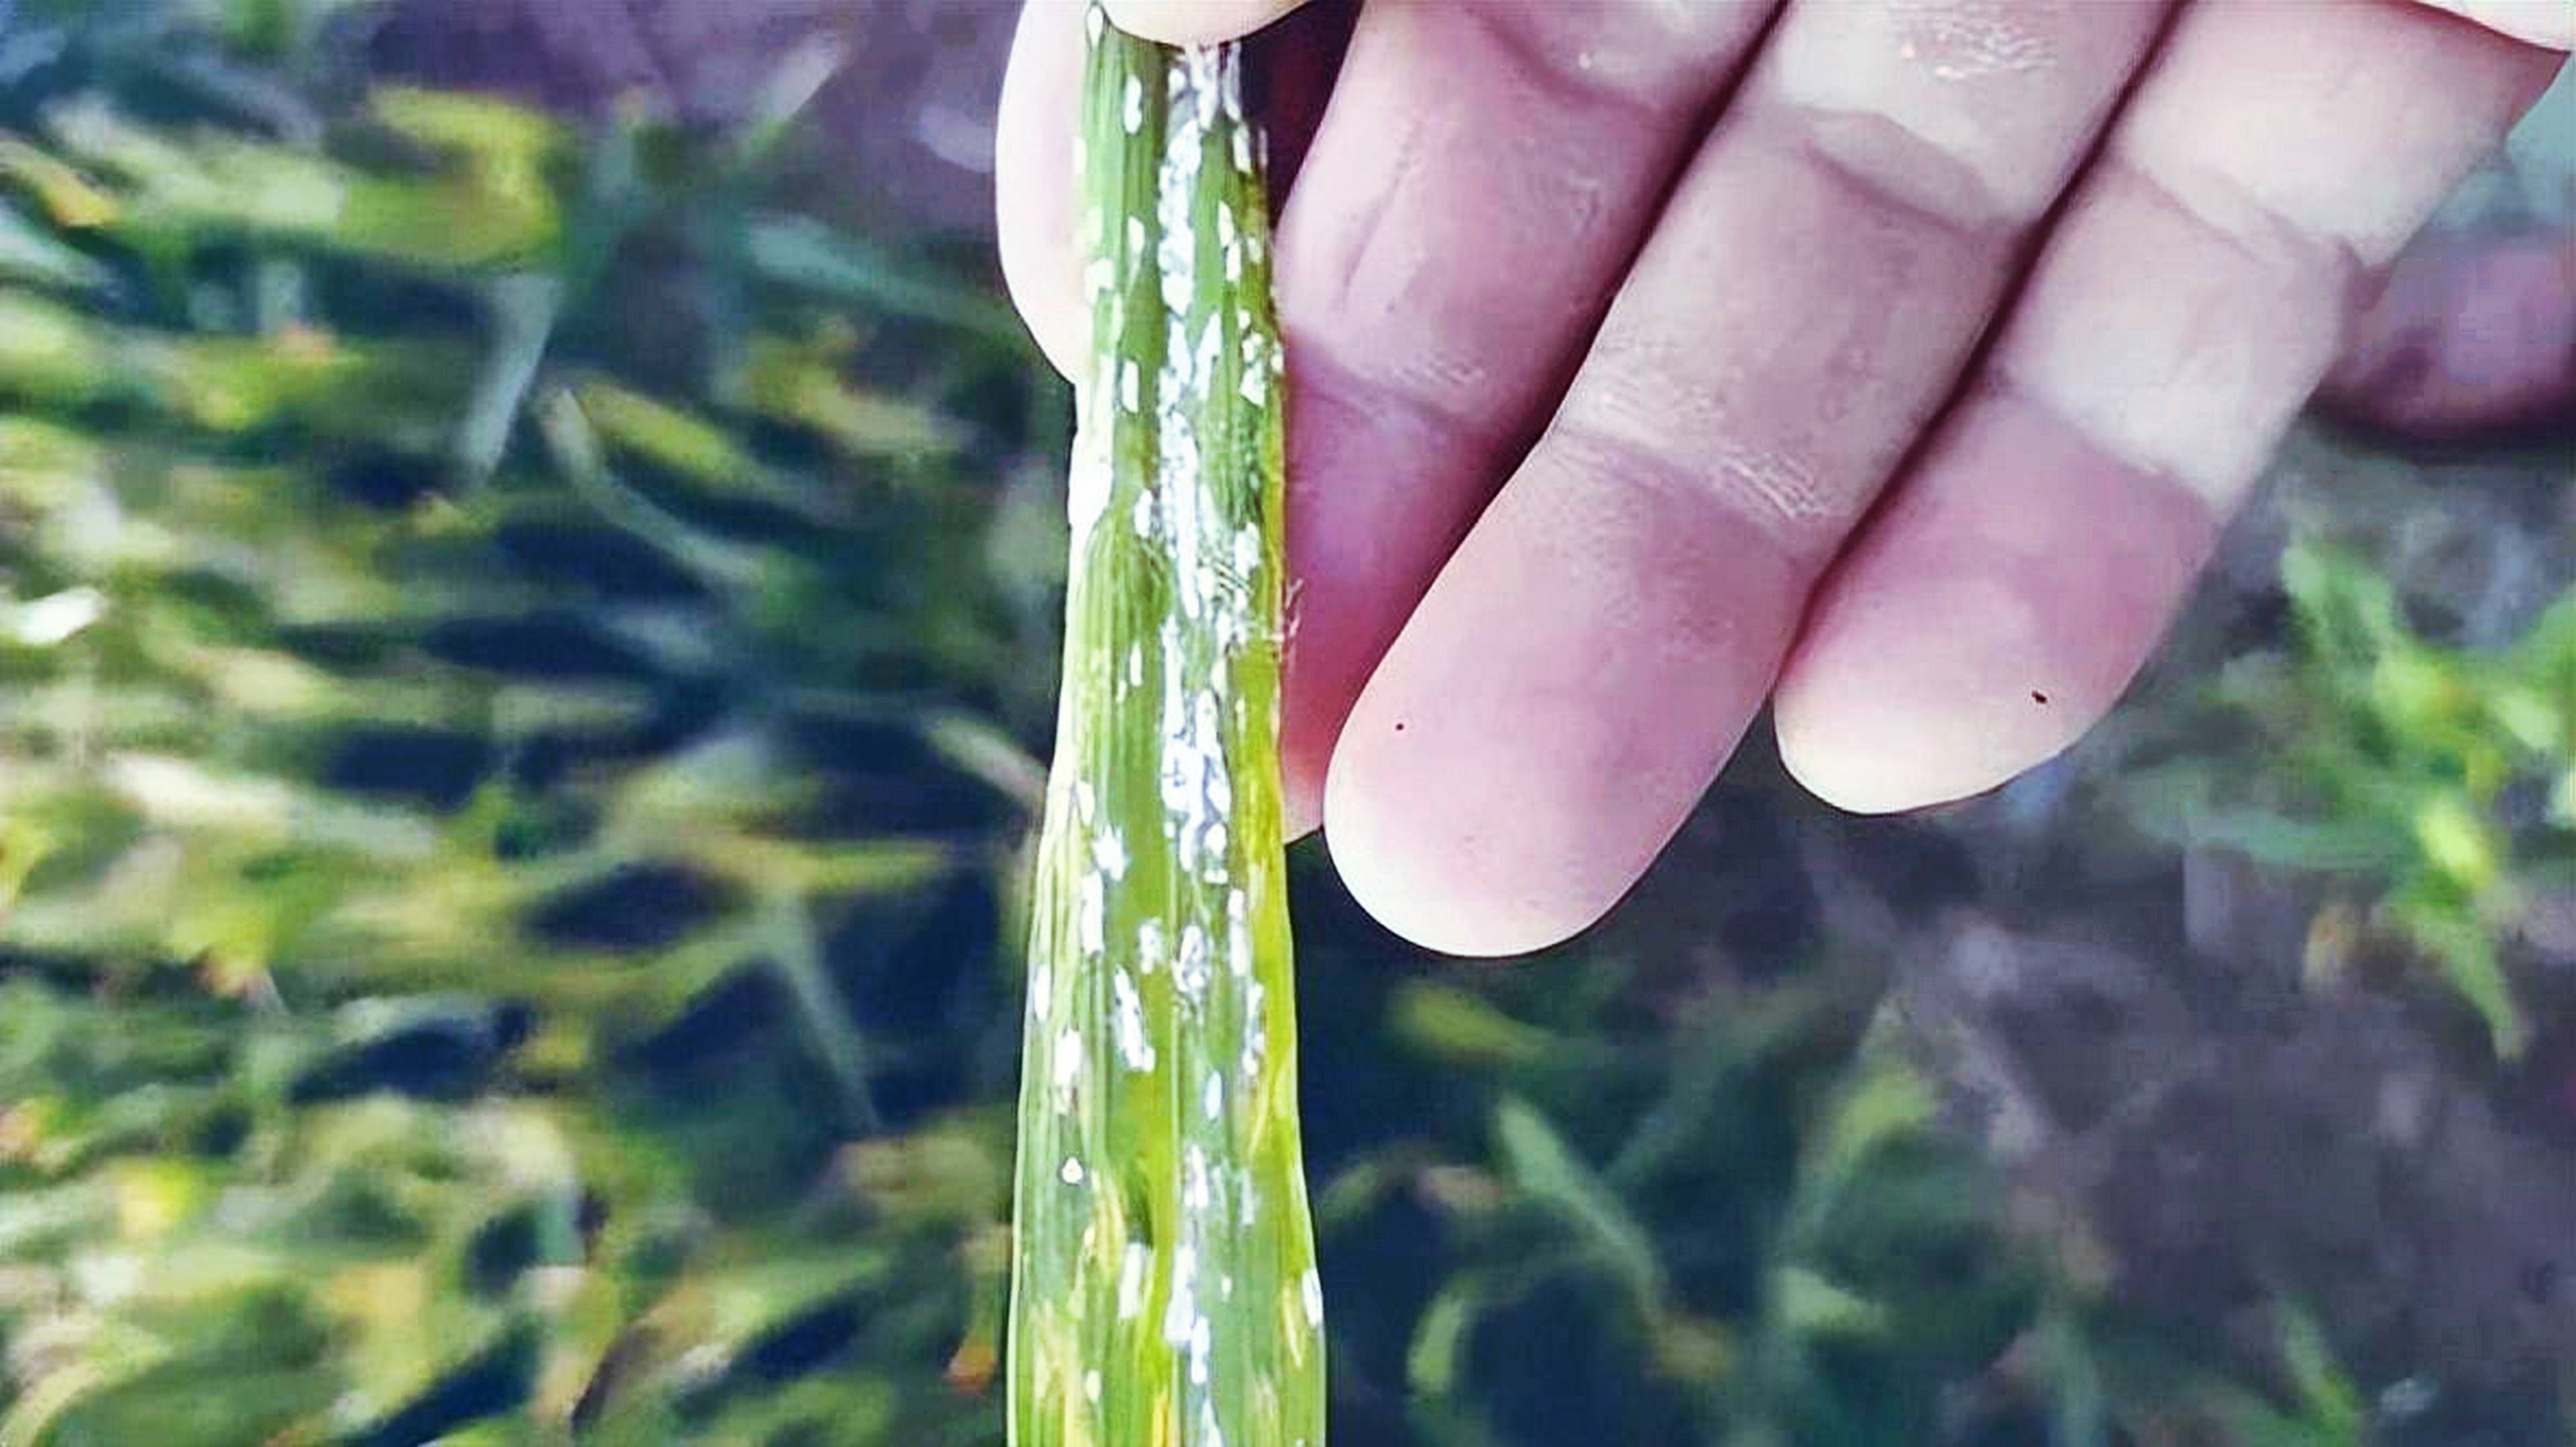Powdery Mildew: (975, 35, 1323, 1261)
